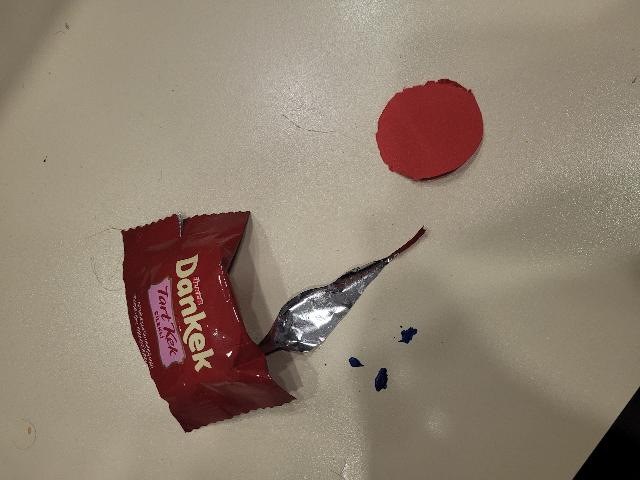Kagit: (364, 65, 494, 192)
Plastik: (108, 203, 433, 429)
